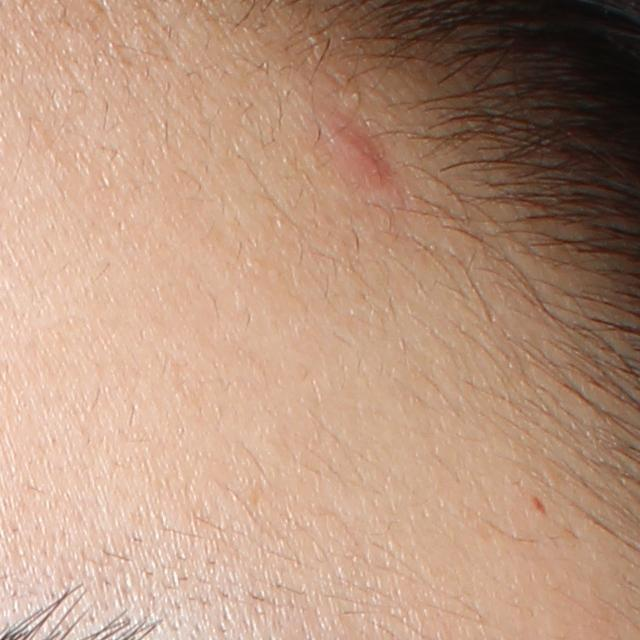papule: (336, 132, 390, 190)
